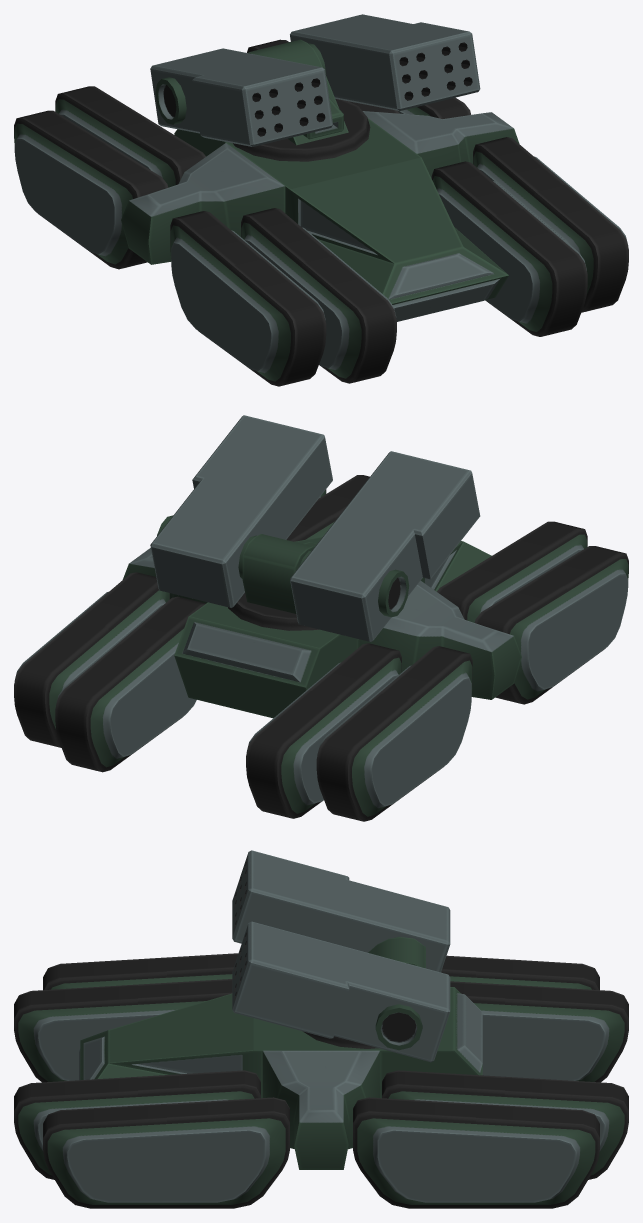
Rendered from tank_3.fbx.
3 renders of one model, top to bottom at view 1: azimuth 30°, elevation 25°; view 2: azimuth 150°, elevation 25°; view 3: azimuth 270°, elevation 25°, orthographic.
Visible parts, largest first — view 1: tank_3; view 2: tank_3; view 3: tank_3.
Boxes of the visible parts, <box> form: tank_3: <box>14,14,628,386</box>; tank_3: <box>14,415,628,821</box>; tank_3: <box>14,850,628,1208</box>.
Size of the model in its own units: 129 by 74.35 by 186.
1 material, 1 textured.
